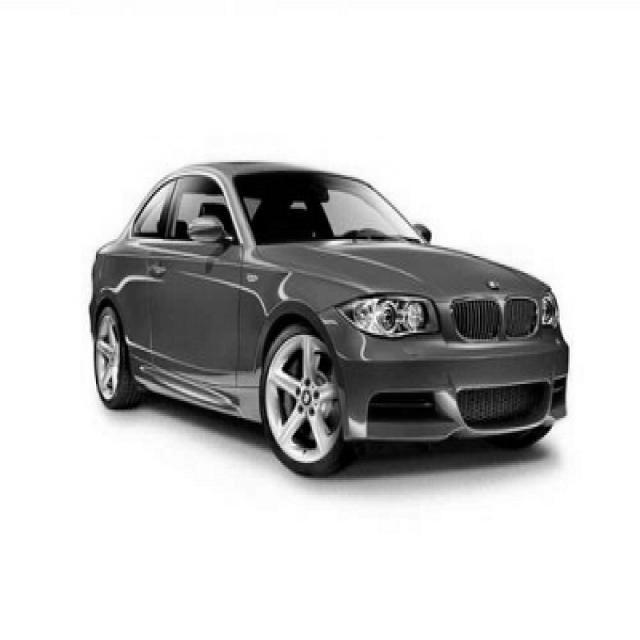Sedan: (87, 159, 570, 482)
